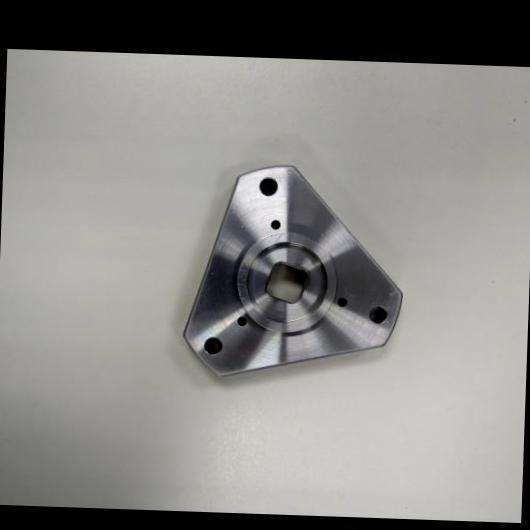hole: (366, 300, 391, 328), (258, 172, 282, 198), (202, 333, 226, 357), (333, 293, 351, 311), (237, 314, 250, 328), (270, 218, 284, 230)
